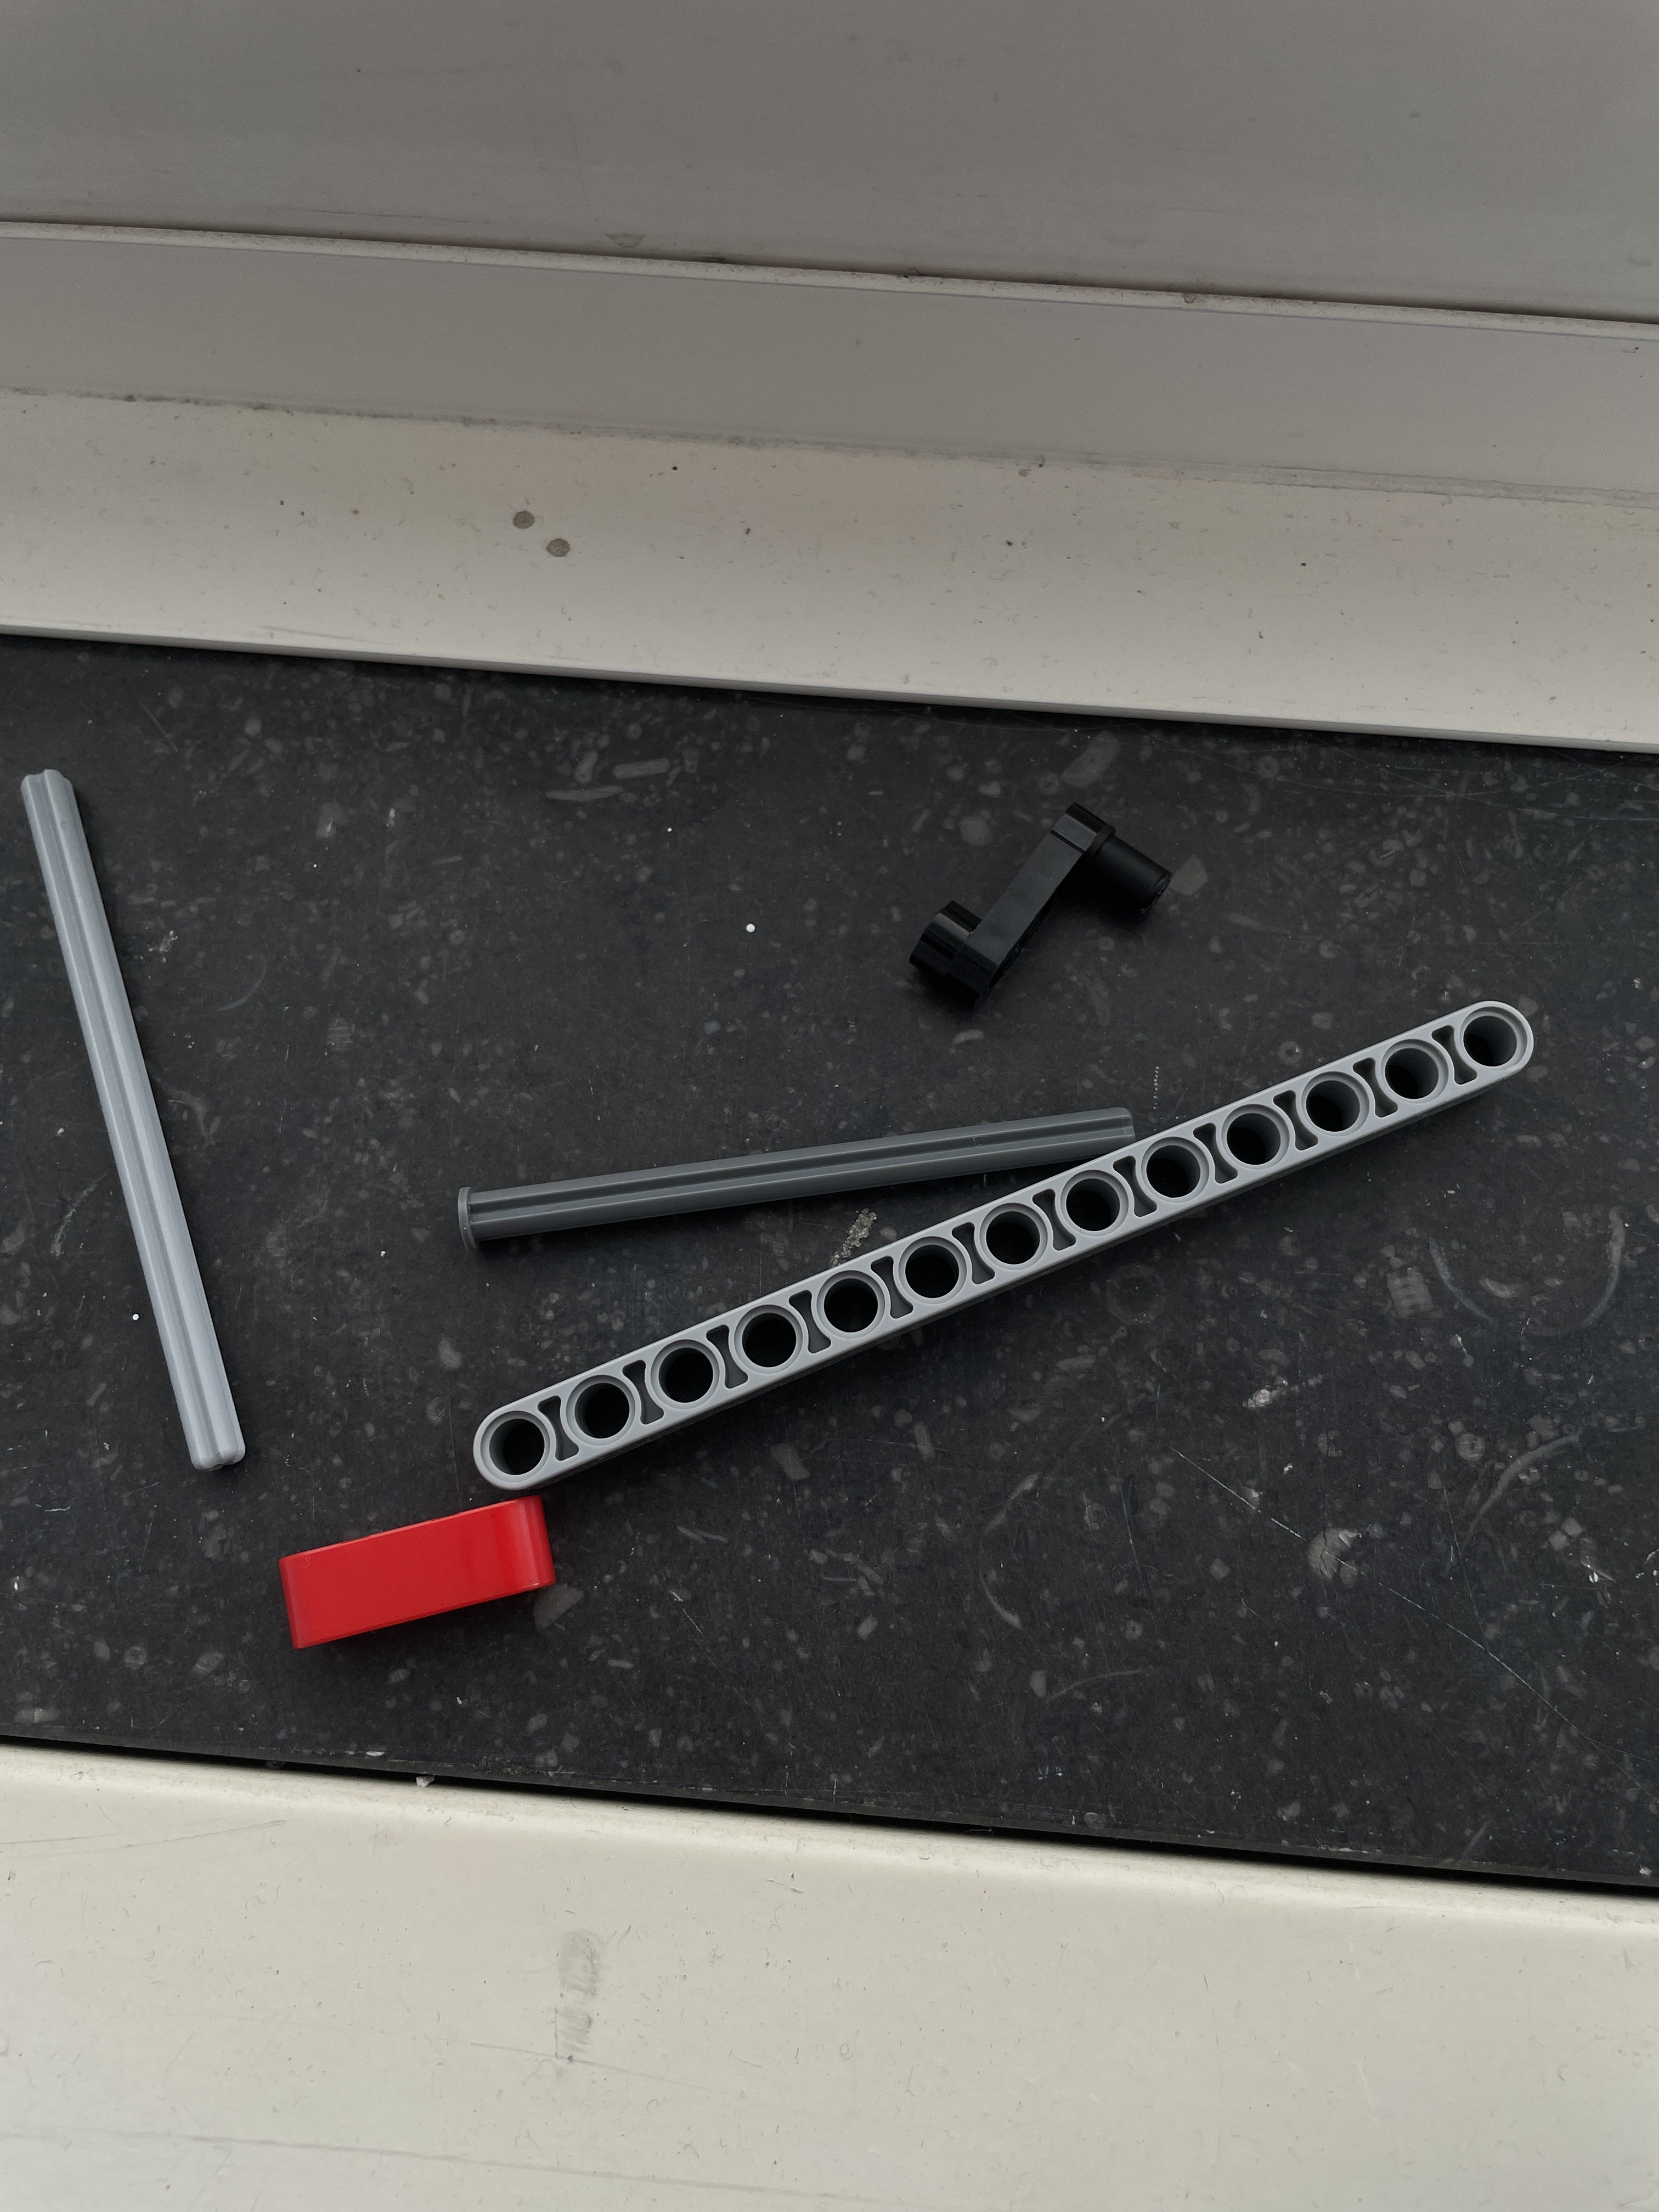13gat: (462, 988, 1544, 1507)
3gat: (267, 1482, 568, 1663)
plusstaaf: (16, 756, 253, 1484)
plusstaafdicht: (437, 1085, 1148, 1268)
verbindstukzwart: (897, 803, 1185, 1028)
